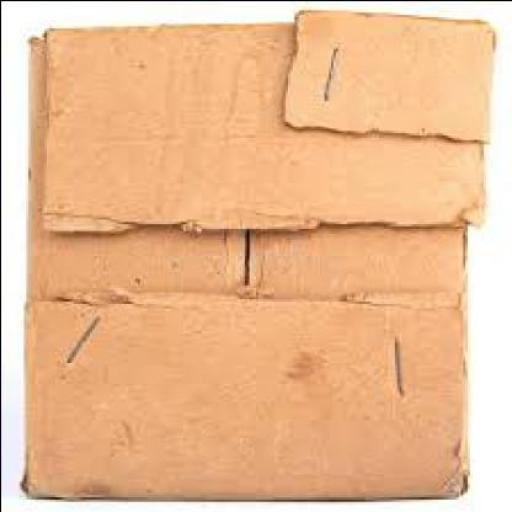cardboard: (16, 5, 491, 498)
